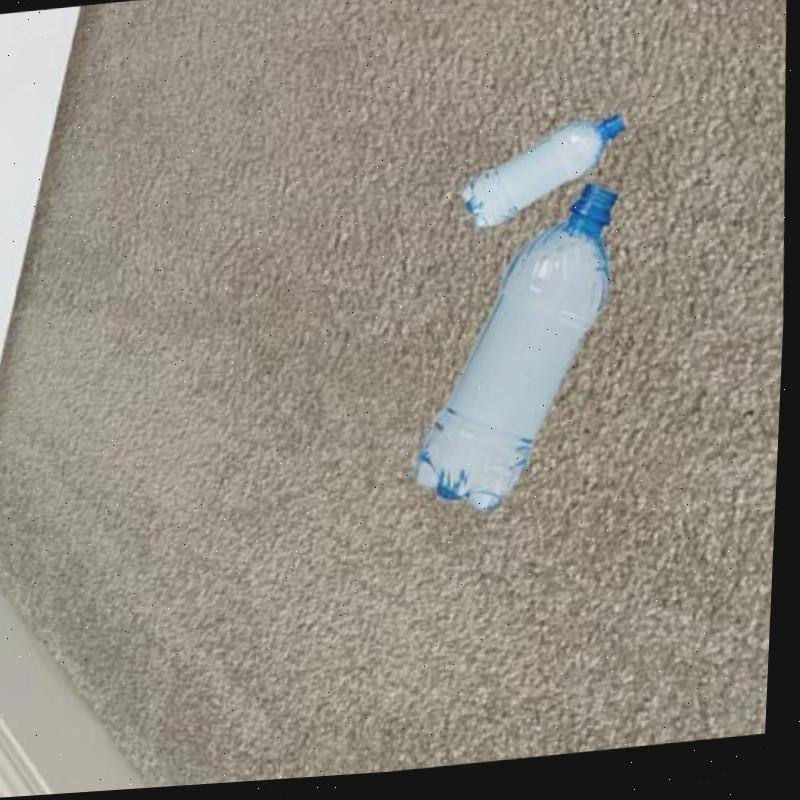botella: (401, 189, 629, 531), (461, 120, 630, 236)
